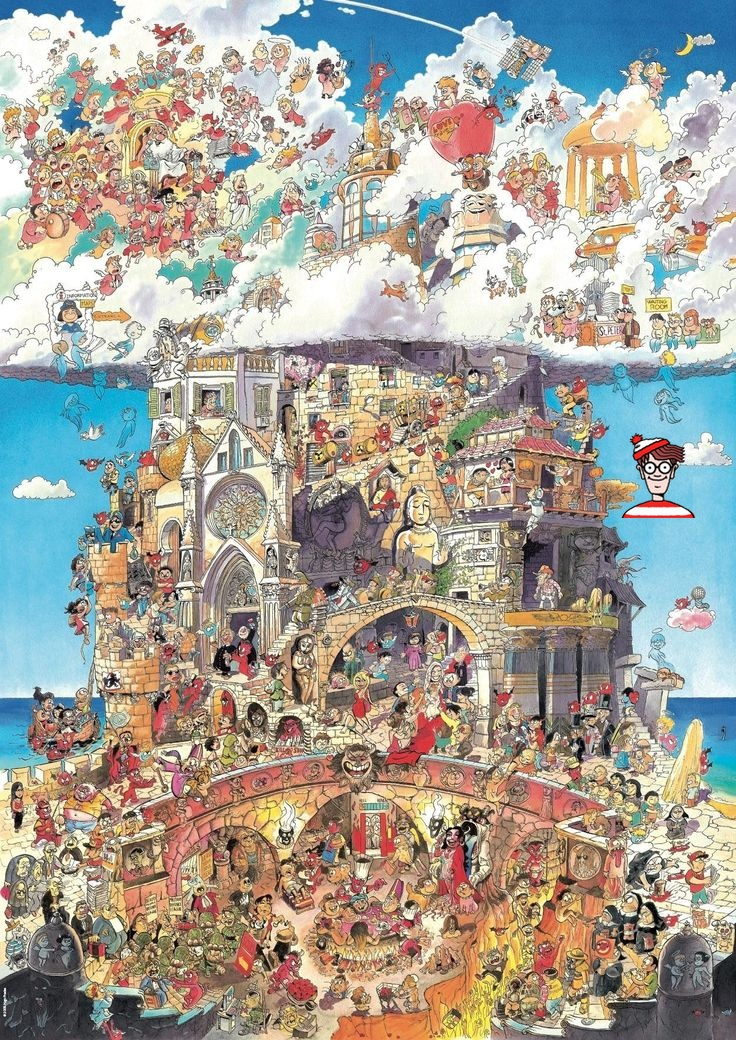waldo: (621, 433, 695, 518)
